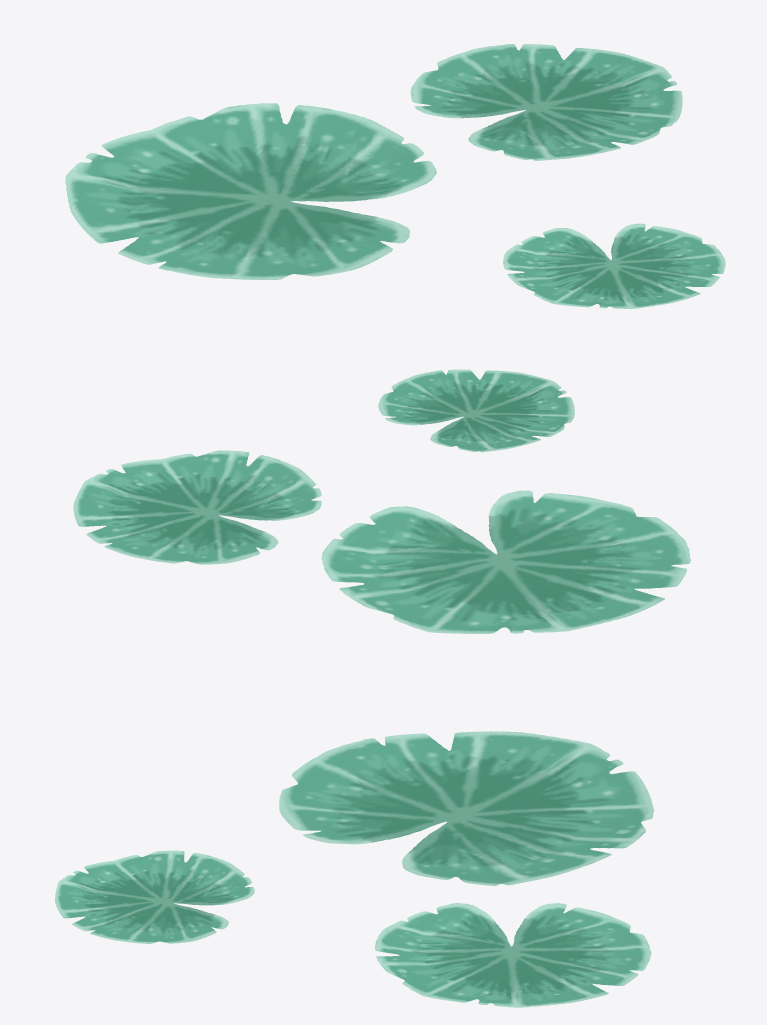
The model's file is SM_ENV_flower_ancient_07_03.fbx.
The picture shows the model from 3 angles, top to bottom: view 1: azimuth 30°, elevation 25°; view 2: azimuth 150°, elevation 25°; view 3: azimuth 270°, elevation 25°; orthographic projection. The views are drawn at different scales.
Visible parts, largest first — view 1: SM_ENV_flower_ancient_07_03_LOD0; view 2: SM_ENV_flower_ancient_07_03_LOD0; view 3: SM_ENV_flower_ancient_07_03_LOD0.
Part boxes in pixels (x1=…): SM_ENV_flower_ancient_07_03_LOD0: x1=65, y1=44, x2=725, y2=308; SM_ENV_flower_ancient_07_03_LOD0: x1=73, y1=369, x2=690, y2=633; SM_ENV_flower_ancient_07_03_LOD0: x1=55, y1=731, x2=654, y2=1007.
Bounding box in the file's own units: 81.23 × 1.4 × 77.01.
